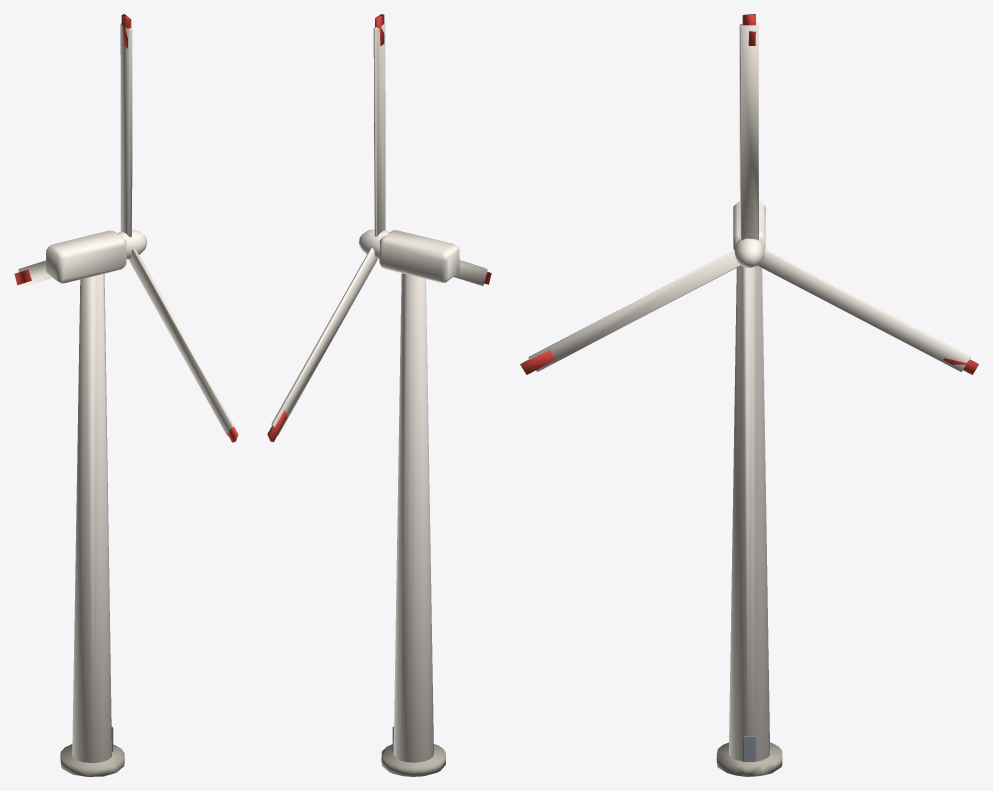
The model's file is wind_turbine.glb.
3 renders of one model, left to right at view 1: azimuth 30°, elevation 25°; view 2: azimuth 150°, elevation 25°; view 3: azimuth 270°, elevation 25°, orthographic. The views are drawn at different scales.
Parts seen in each view (by area): view 1: wind_turbine.001, rotor.009; view 2: wind_turbine.001, rotor.009; view 3: wind_turbine.001, rotor.009.
Boxes of the visible parts, <box> form: wind_turbine.001: <box>46,230,126,776</box>; rotor.009: <box>14,14,238,442</box>; wind_turbine.001: <box>379,230,459,776</box>; rotor.009: <box>267,14,491,441</box>; wind_turbine.001: <box>716,202,782,776</box>; rotor.009: <box>520,14,978,374</box>.
Bounding box in the file's own units: 7.98 × 59.88 × 32.51.
Materials: 1 (1 with a texture image).
